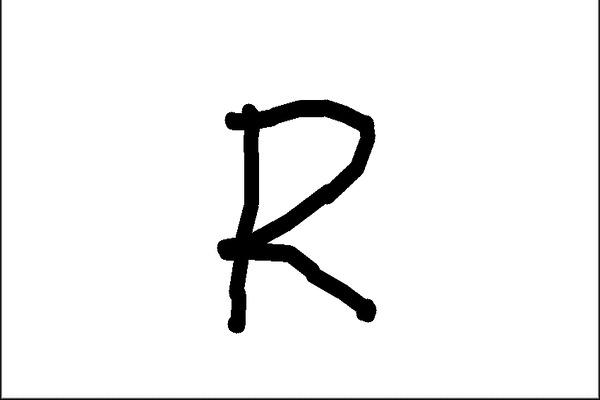R: (215, 90, 390, 325)
